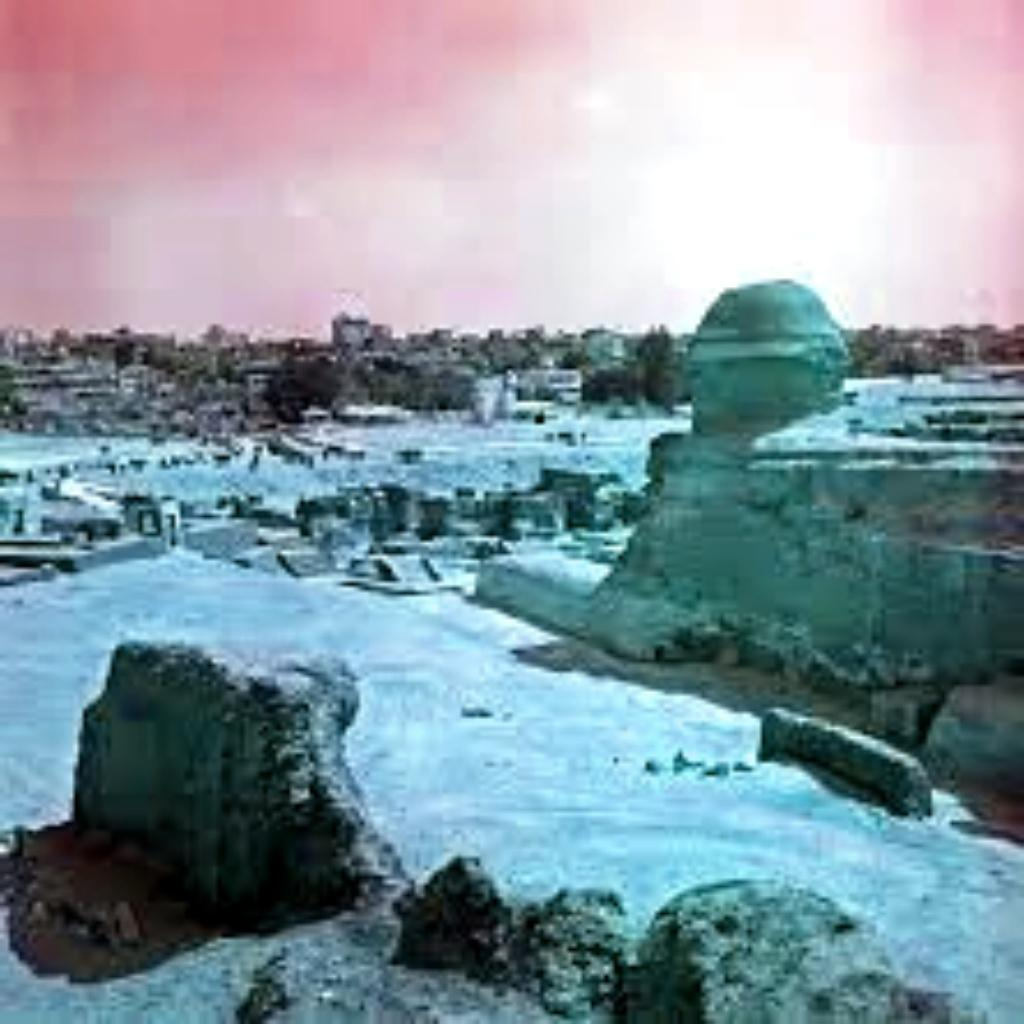Sphinx: (470, 271, 1020, 812)
